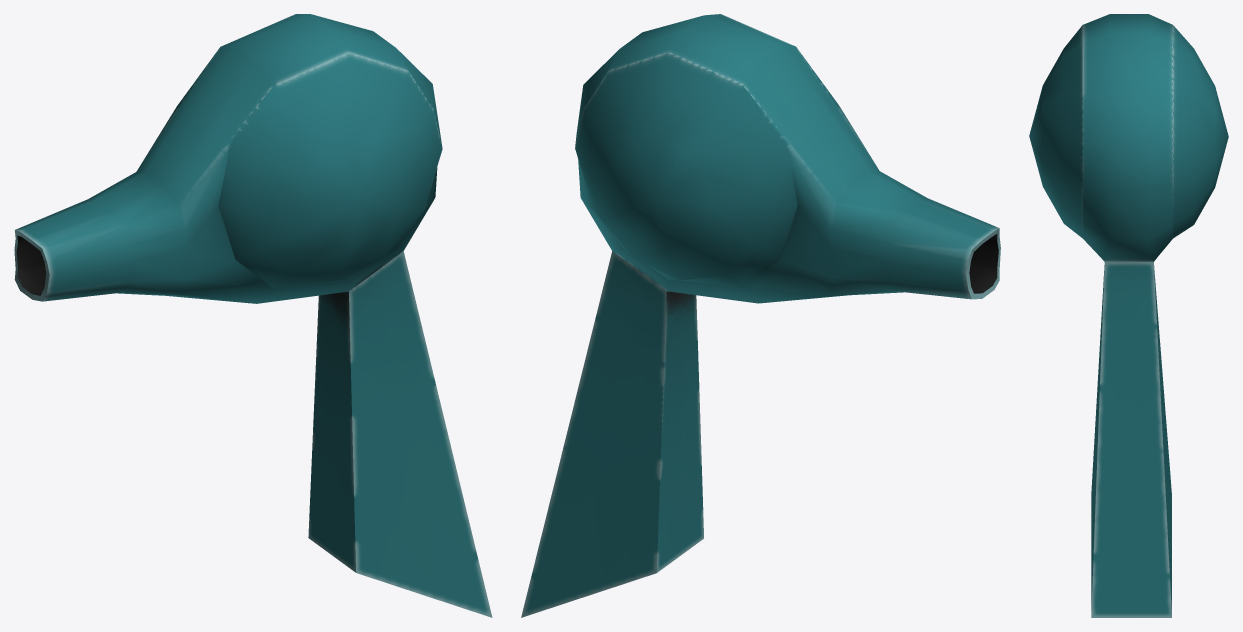
The model's file is Hairdryer.fbx.
3 views of the same model, side by side, from view 1: azimuth 30°, elevation 25°; view 2: azimuth 150°, elevation 25°; view 3: azimuth 270°, elevation 25° (orthographic). The views are drawn at different scales.
Visible parts, largest first — view 1: Hair_Dryer:pSphere4; view 2: Hair_Dryer:pSphere4; view 3: Hair_Dryer:pSphere4.
Boxes of the visible parts, x1,y1,x2,y2 form: Hair_Dryer:pSphere4: [14, 14, 492, 617]; Hair_Dryer:pSphere4: [521, 14, 1000, 617]; Hair_Dryer:pSphere4: [1029, 14, 1228, 617].
Size of the model in its own units: 18.95 by 25.07 by 8.7.
Materials: 1 (1 with a texture image).
